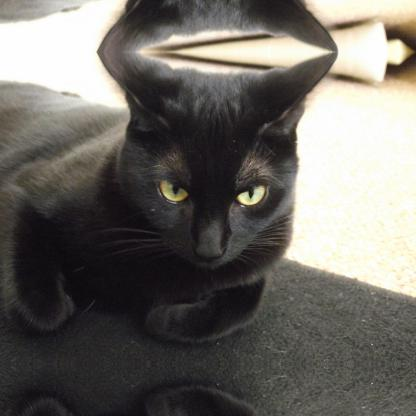Cat: (0, 52, 340, 342)
